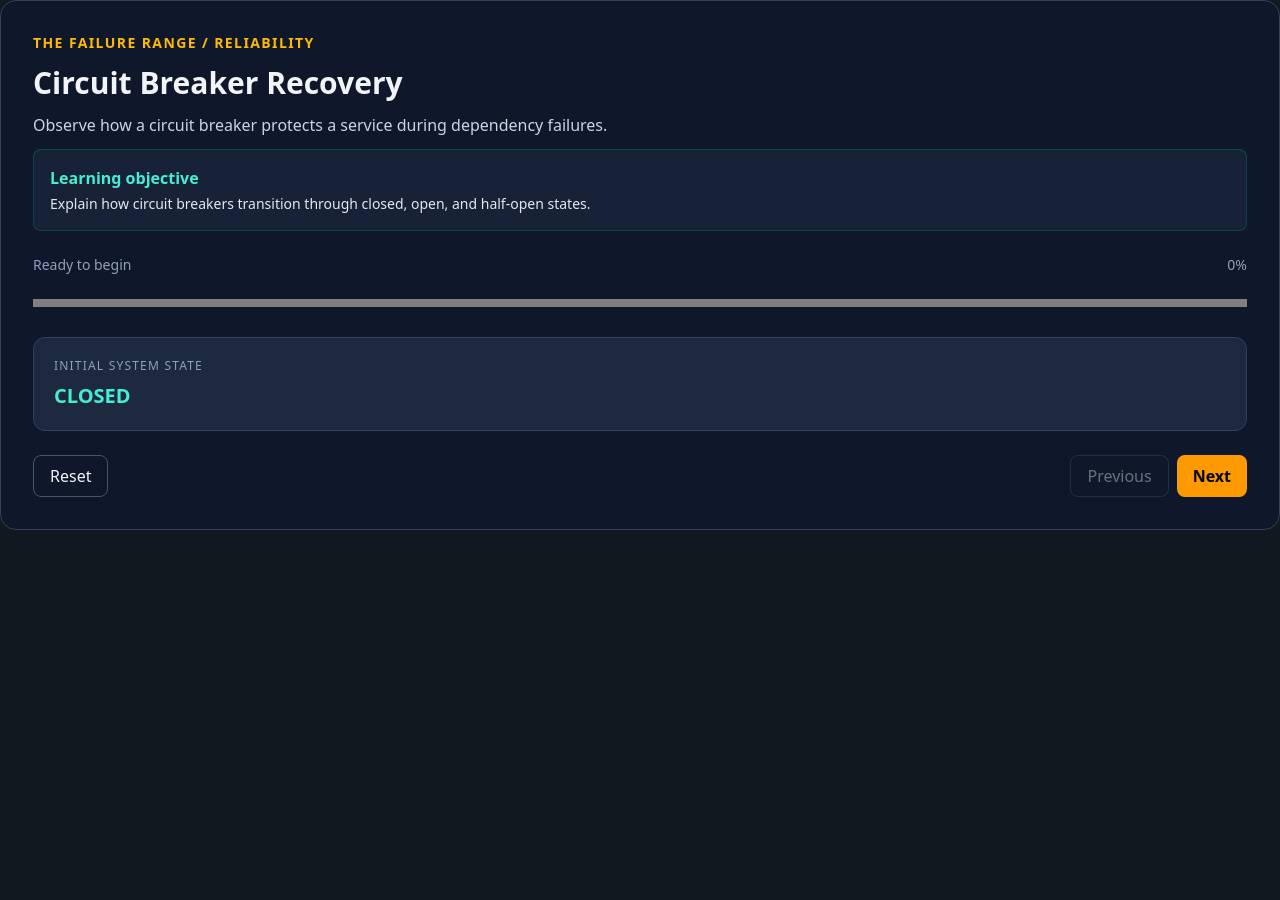
Test: SimulationPlayer › advances through simulation steps
Click the button "Next" at (1212, 476), box top-left (1177, 455), bottom-right (1247, 497)
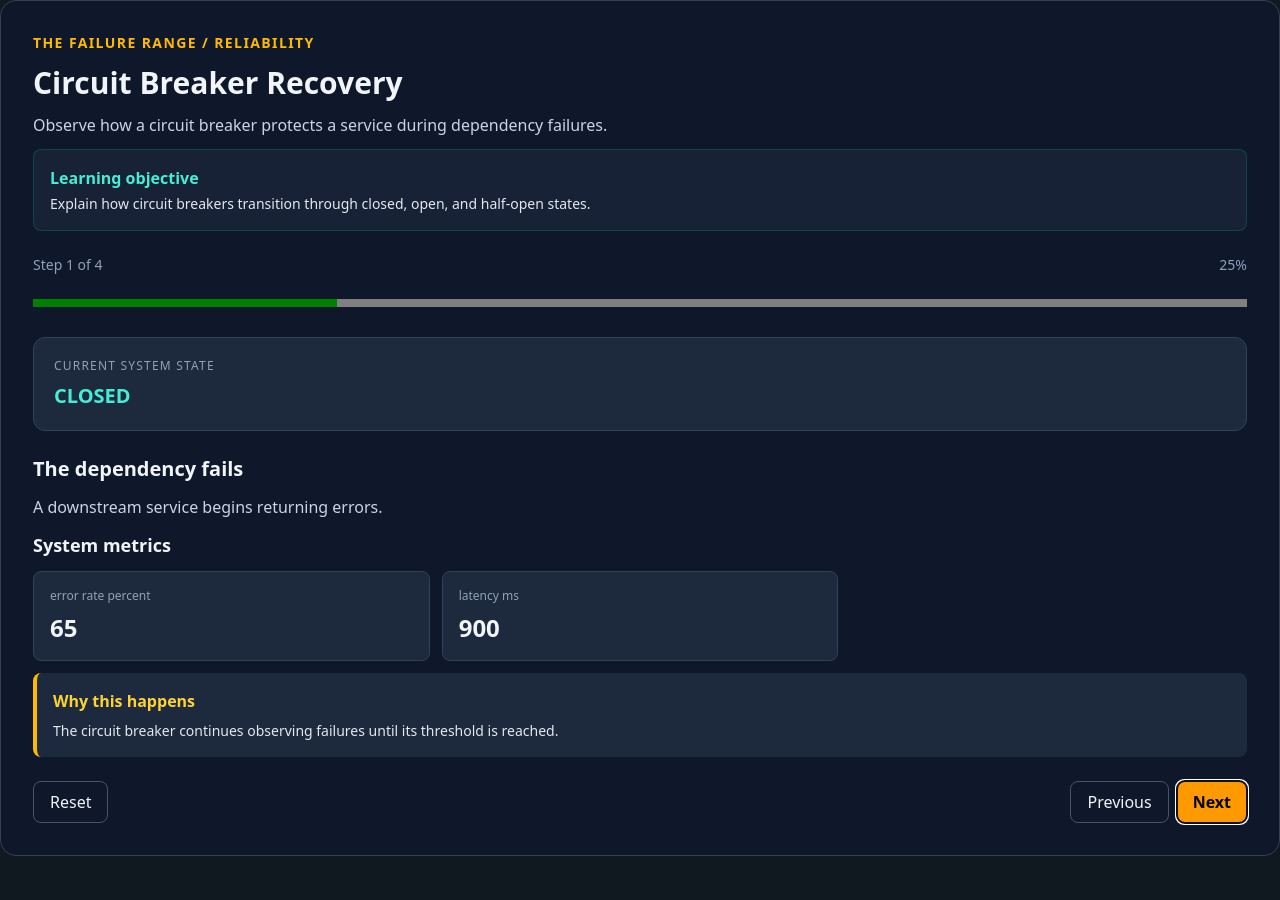
Check: the heading "The dependency fails" is shown, box top-left (33, 455), bottom-right (243, 482)
Click the button "Next" at (1212, 802), box top-left (1177, 781), bottom-right (1247, 823)
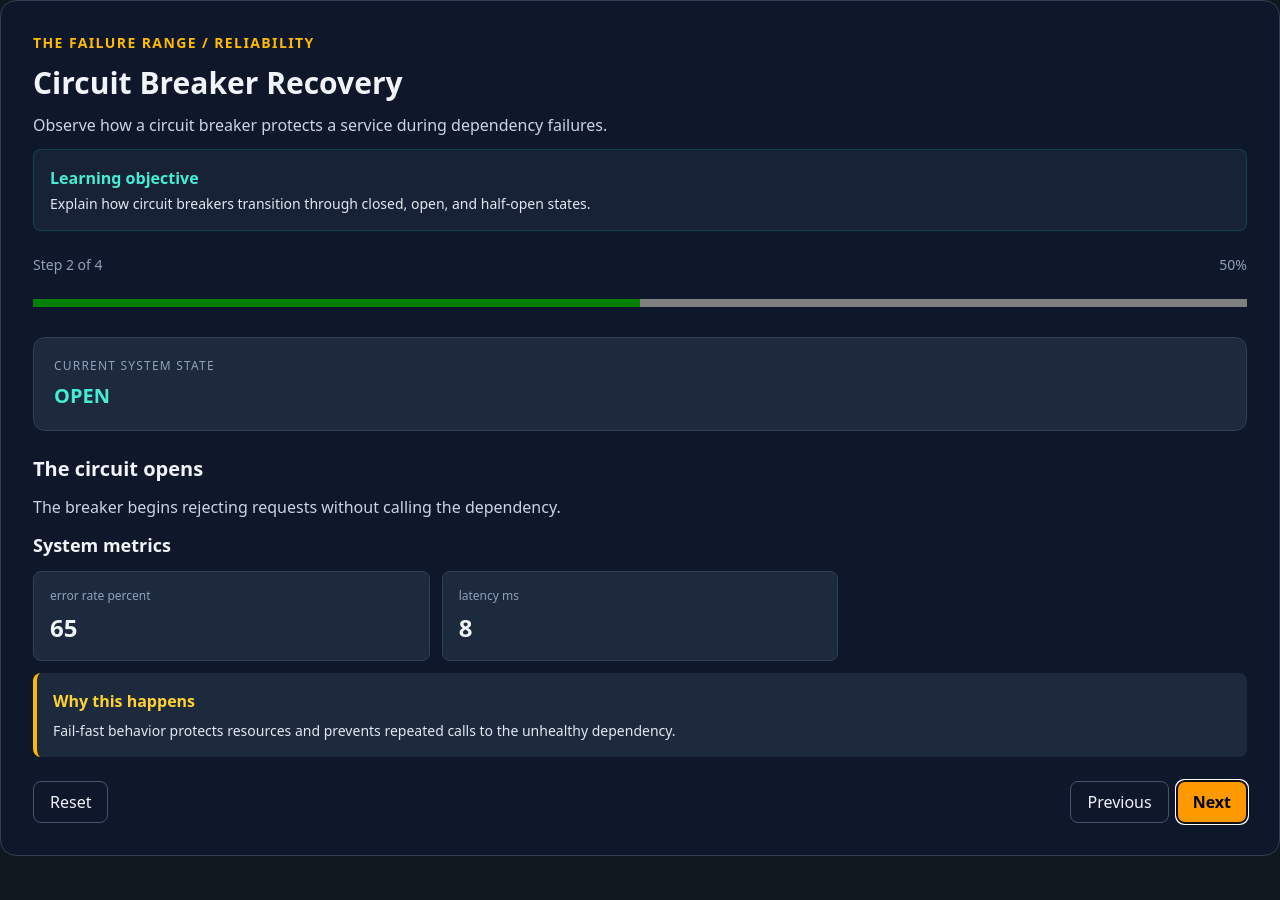
Check: the text with test id "system-state" reads "OPEN", box top-left (54, 382), bottom-right (110, 409)
